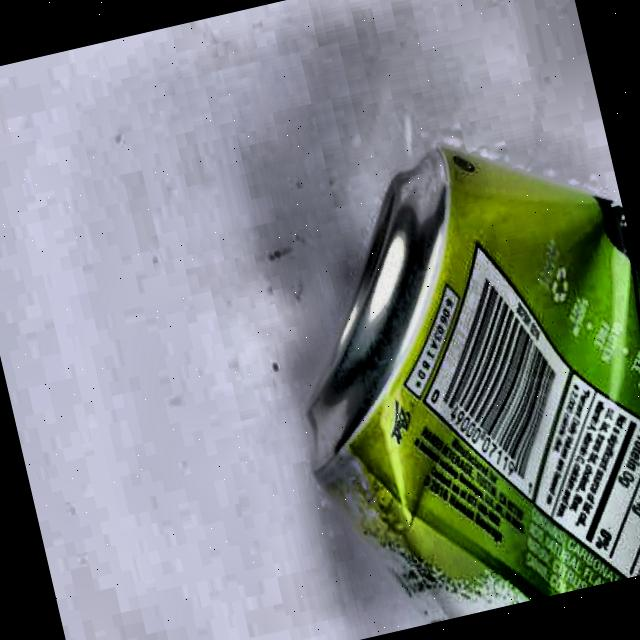metal: (242, 100, 640, 640)
